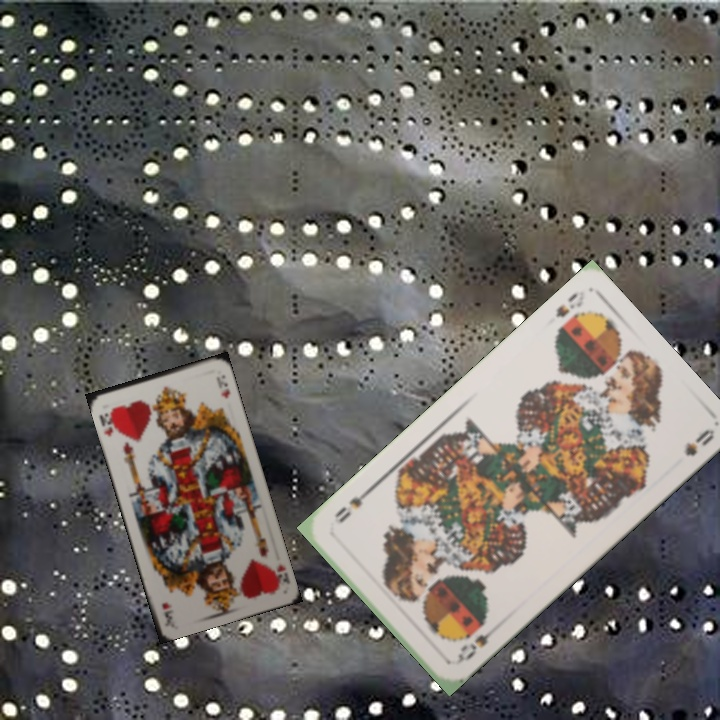HK: (95, 404, 121, 439), (266, 560, 292, 587)
SO: (452, 622, 500, 667), (551, 286, 588, 321)
